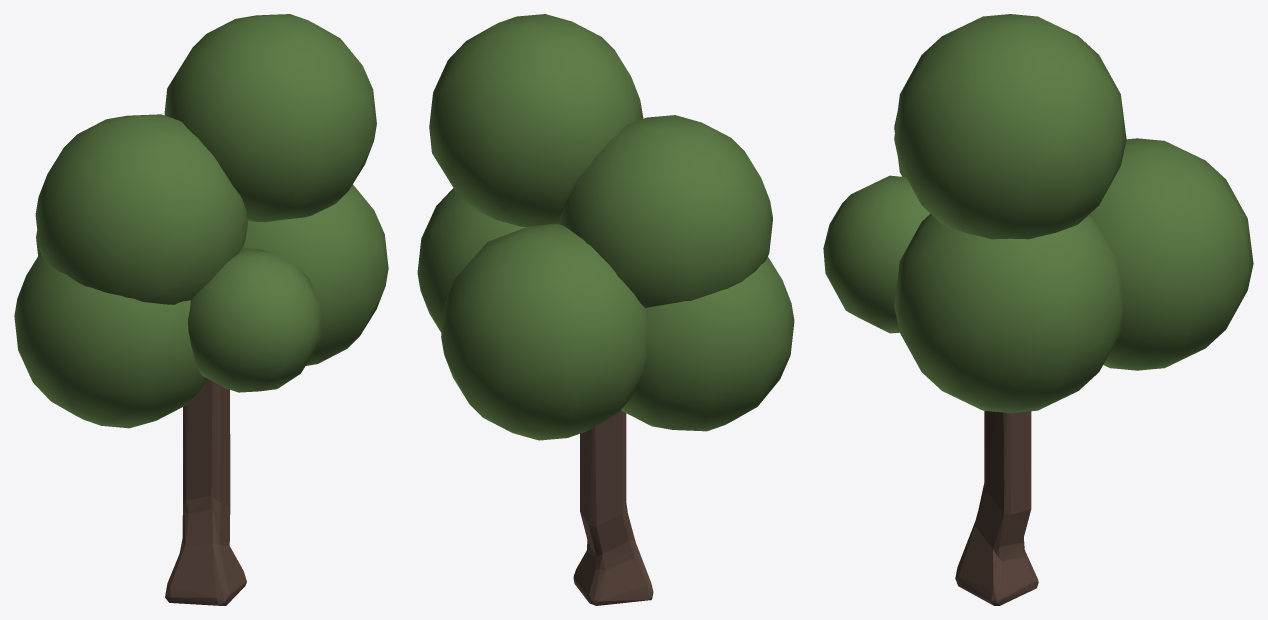
File: BubblyTree.fbx
3 views of the same model, side by side, from view 1: azimuth 30°, elevation 25°; view 2: azimuth 150°, elevation 25°; view 3: azimuth 270°, elevation 25° (orthographic). The views are drawn at different scales.
Visible parts, largest first — view 1: Icosphere.011; view 2: Icosphere.011; view 3: Icosphere.011.
Part boxes in pixels (x1,y1,x2,y2): Icosphere.011: (14, 14, 388, 605); Icosphere.011: (417, 14, 794, 605); Icosphere.011: (823, 14, 1253, 605).
Bounding box in the file's own units: 248 × 376 × 245.
